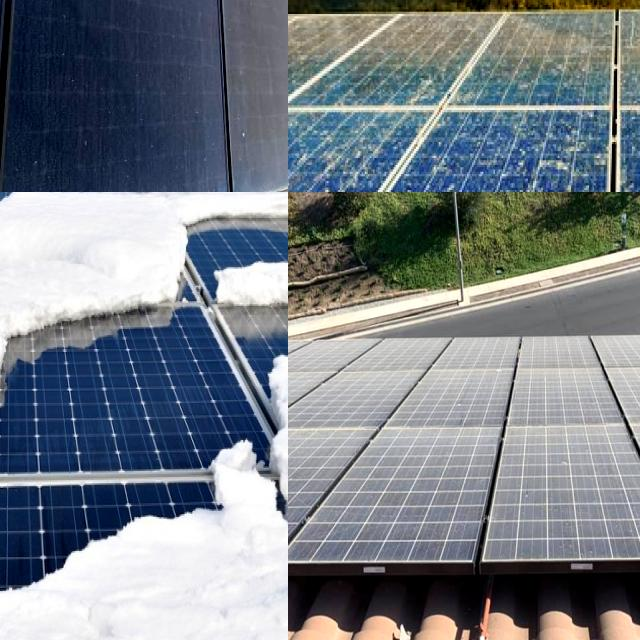dust: (0, 53, 156, 129), (376, 434, 476, 550), (514, 432, 622, 538), (0, 0, 178, 46), (160, 71, 288, 127), (369, 340, 588, 370), (98, 0, 275, 35), (433, 366, 499, 421), (526, 370, 610, 413), (288, 436, 306, 546), (334, 379, 374, 419), (288, 342, 309, 413)
panel: (0, 480, 246, 640), (0, 349, 89, 640), (0, 192, 187, 324), (211, 247, 288, 333), (191, 192, 288, 250), (0, 192, 76, 214)
